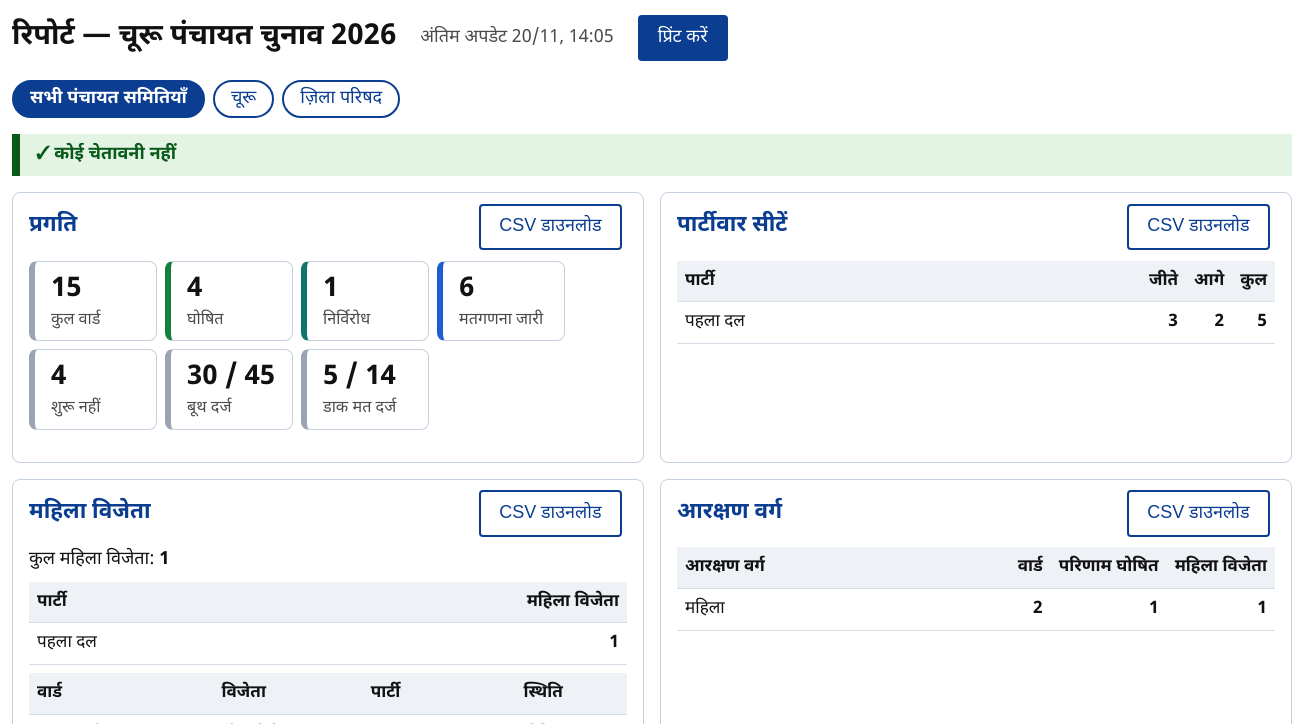
Test: DM reports home › the filter switches scope (and the CSV links); reservation is hidden when it has no data
Click the button "चूरू": (244, 99) top-left (213, 80), bottom-right (274, 118)
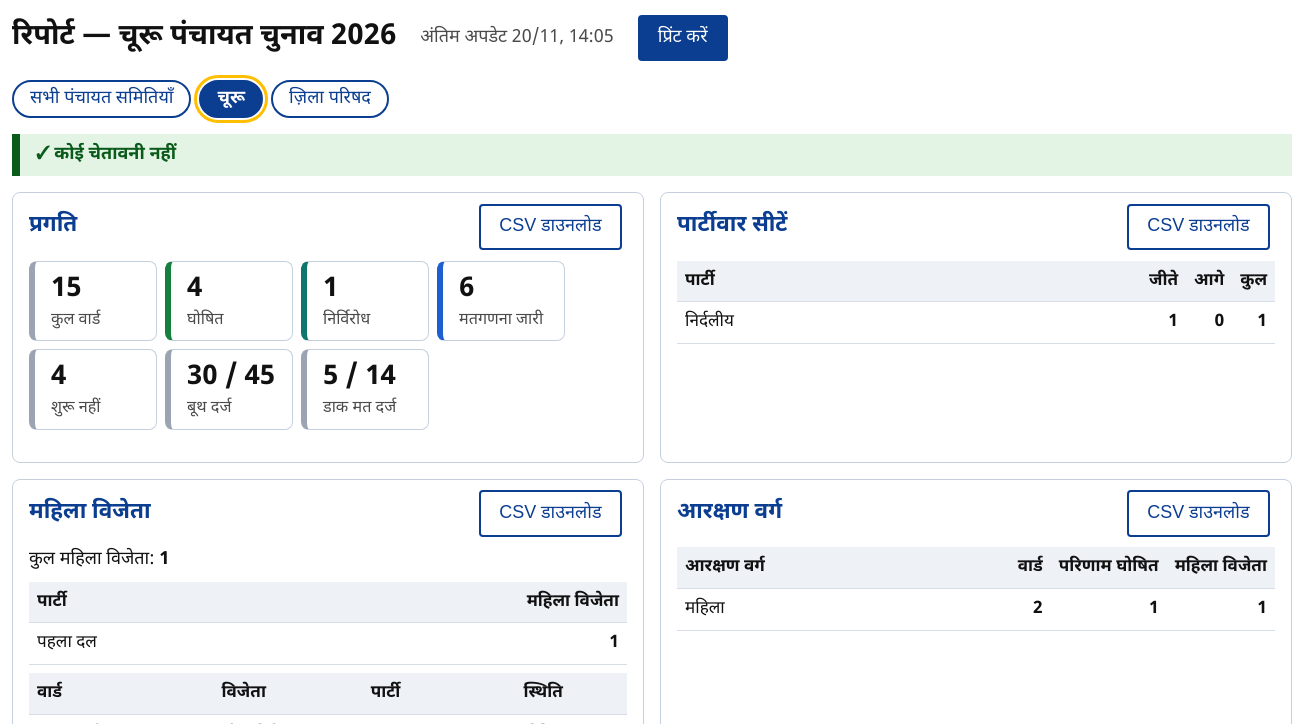
Check: the element with test id "section-party-seats" shows "निर्दलीय", box top-left (685, 311), bottom-right (734, 333)
Click the button "ज़िला परिषद": (330, 99) top-left (271, 80), bottom-right (389, 118)
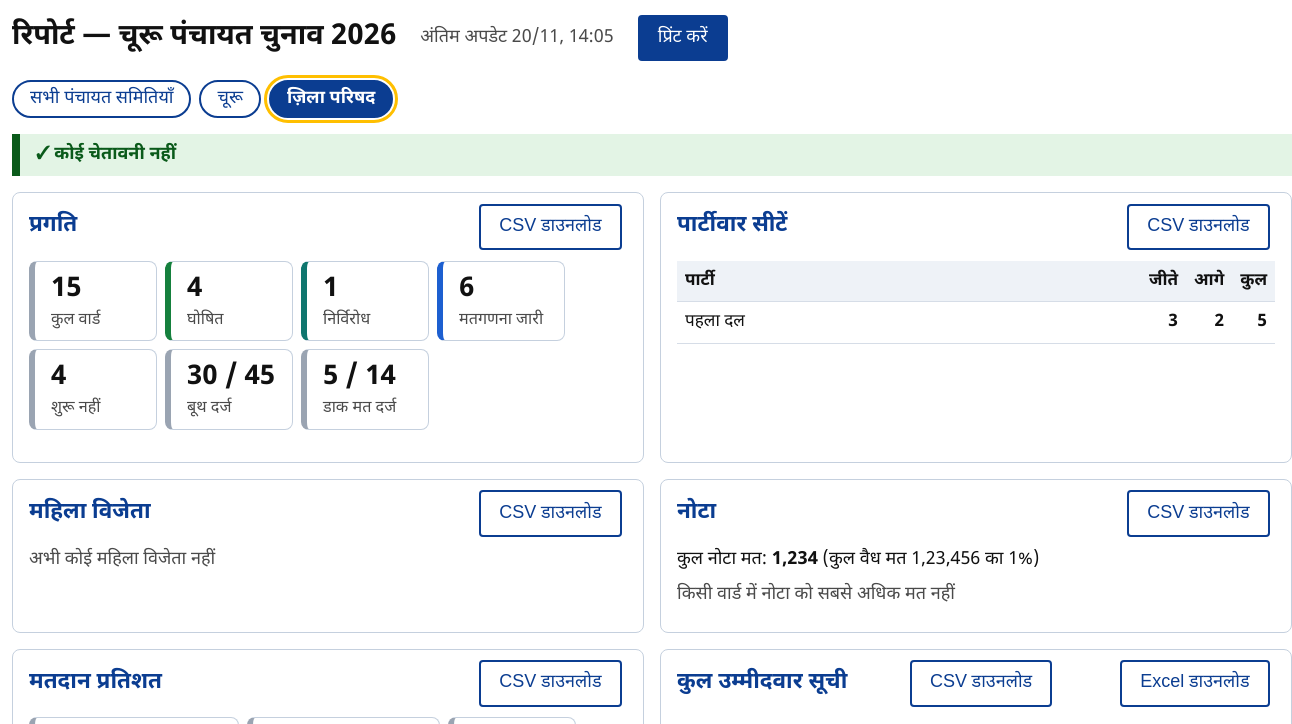
Check: the element with test id "section-women" shows "अभी कोई महिला विजेता नहीं", box top-left (29, 548), bottom-right (215, 571)
